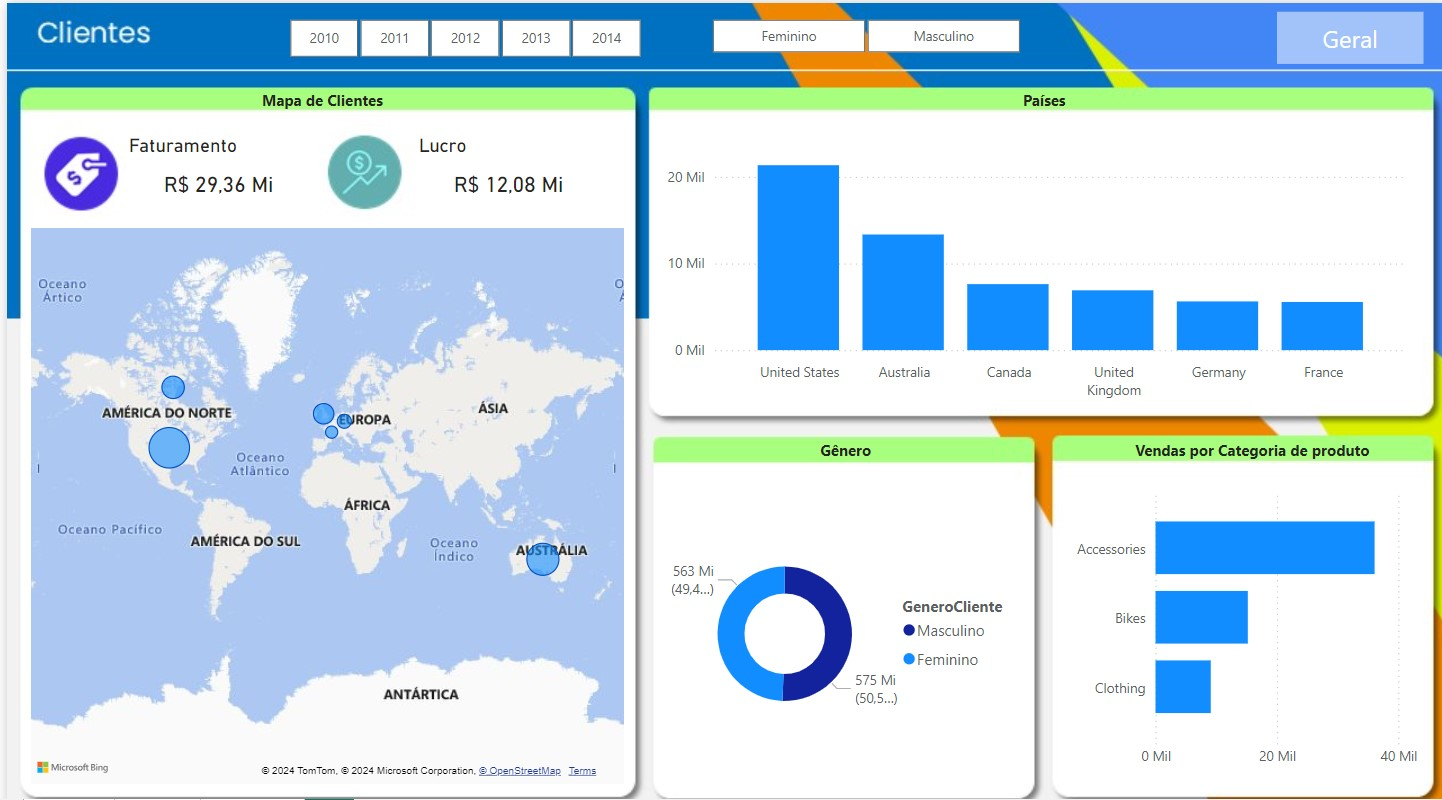

The page's visual inventory and layout, read from the dashboard file:
{"tool":"powerbi","page":{"name":"Clientes","canvas":[1280,720],"ordinal":2},"visuals":[{"type":"map","fields":{"Category":["vw_AnaliseVendas.PaisCliente"],"Size":["Sum(vw_AnaliseVendas.QuantidadeVendida)"]},"box":[16.3,195.3,537.2,503.5],"z":0},{"type":"columnChart","fields":{"Category":["vw_AnaliseVendas.PaisCliente"],"Y":["Sum(vw_AnaliseVendas.QuantidadeVendida)"]},"box":[582.2,102.1,667.7,257.6],"z":1000},{"type":"actionButton","box":[1128.8,7.8,130.2,46.8],"z":2000},{"type":"donutChart","fields":{"Category":["vw_AnaliseVendas.GeneroCliente"],"Y":["Sum(vw_AnaliseVendas.IDCliente)"]},"box":[582.2,422.8,324.6,275],"z":3000},{"type":"barChart","fields":{"Category":["vw_AnaliseVendas.CategoriaProduto"],"Y":["Sum(vw_AnaliseVendas.QuantidadeVendida)"]},"box":[940.8,422.8,317.8,264.4],"z":4000},{"type":"textbox","box":[204.1,71.8,151.8,30],"z":5000},{"type":"textbox","box":[847.1,72.4,150.6,28.8],"z":6000},{"type":"textbox","box":[718.1,383.8,81.9,30],"z":7000},{"type":"textbox","box":[997.5,383.8,227.5,30],"z":8000},{"type":"card","title":"Faturamento","fields":{"Values":["Sum(vw_AnaliseVendas.ValorVenda)"]},"box":[103.5,116.3,169.8,69.8],"z":9000},{"type":"card","title":"Lucro","fields":{"Values":["Sum(vw_AnaliseVendas.LucroVenda)"]},"box":[361.6,116.3,169.8,69.8],"z":10000},{"type":"slicer","fields":{"Values":["vw_AnaliseVendas.DataPedido.Variation.Hierarquia de datas.Ano"]},"box":[226,7.8,361.8,46.8],"z":11000},{"type":"slicer","fields":{"Values":["vw_AnaliseVendas.GeneroCliente"]},"box":[601.2,8.1,323.3,43],"z":11001}]}

Visuals, with their boxes in screenshot pixels (x1, y1, x2, y2), scaled from the page's 1280x720 canvas onto the 1442x800 screenshot:
map - vw_AnaliseVendas.PaisCliente x Sum(vw_AnaliseVendas.QuantidadeVendida): x1=18 y1=217 x2=624 y2=776
columnChart - vw_AnaliseVendas.PaisCliente x Sum(vw_AnaliseVendas.QuantidadeVendida): x1=656 y1=113 x2=1408 y2=400
actionButton: x1=1272 y1=9 x2=1418 y2=61
donutChart - vw_AnaliseVendas.GeneroCliente x Sum(vw_AnaliseVendas.IDCliente): x1=656 y1=470 x2=1022 y2=775
barChart - vw_AnaliseVendas.CategoriaProduto x Sum(vw_AnaliseVendas.QuantidadeVendida): x1=1060 y1=470 x2=1418 y2=764
textbox: x1=230 y1=80 x2=401 y2=113
textbox: x1=954 y1=80 x2=1124 y2=112
textbox: x1=809 y1=426 x2=901 y2=460
textbox: x1=1124 y1=426 x2=1380 y2=460
"Faturamento" card: x1=117 y1=129 x2=308 y2=207
"Lucro" card: x1=407 y1=129 x2=599 y2=207
slicer - vw_AnaliseVendas.DataPedido.Variation.Hierarquia de datas.Ano: x1=255 y1=9 x2=662 y2=61
slicer - vw_AnaliseVendas.GeneroCliente: x1=677 y1=9 x2=1042 y2=57
